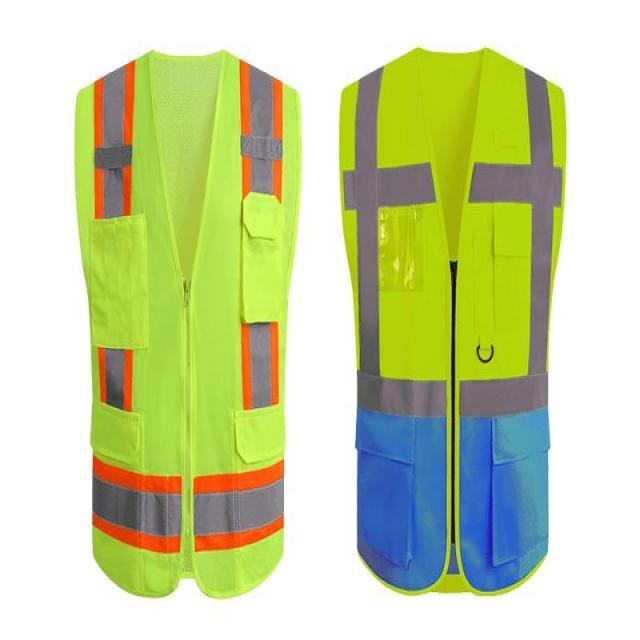Reflective-Jacket: (55, 36, 318, 609), (327, 32, 586, 603)
